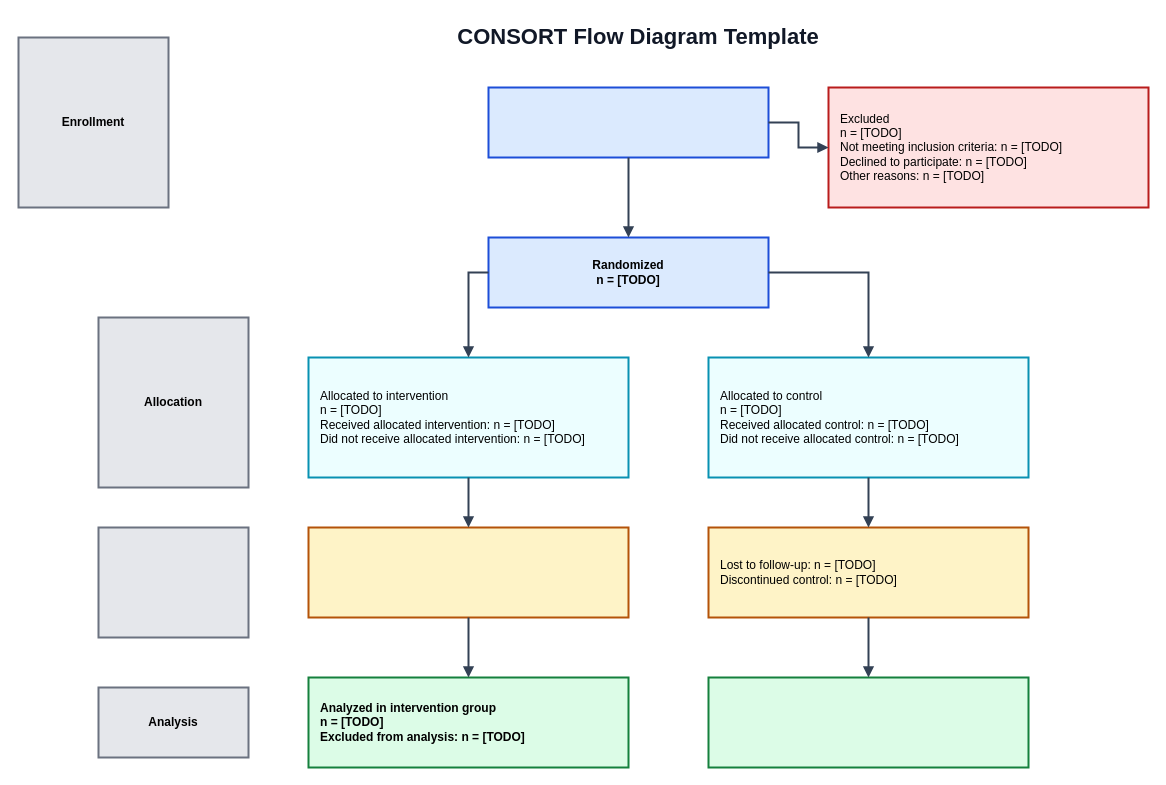
Some shapes in this 1166 by 785 pixel diagram are drawn without their labels. Each missing label, with the centre of its shape:
"Analyzed in control group n = [TODO] Excluded from analysis: n = [TODO]" goes at (868,722).
"Assessed for eligibility n = [TODO]" goes at (628,122).
"Follow-up" goes at (173,582).
"Lost to follow-up: n = [TODO] Discontinued intervention: n = [TODO]" goes at (468,572).
